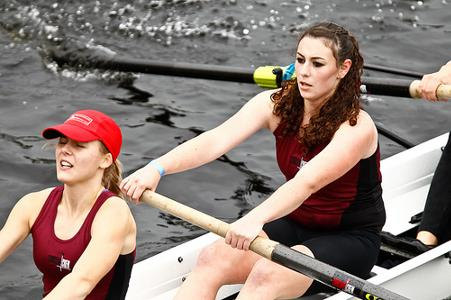person: (121, 23, 387, 300)
